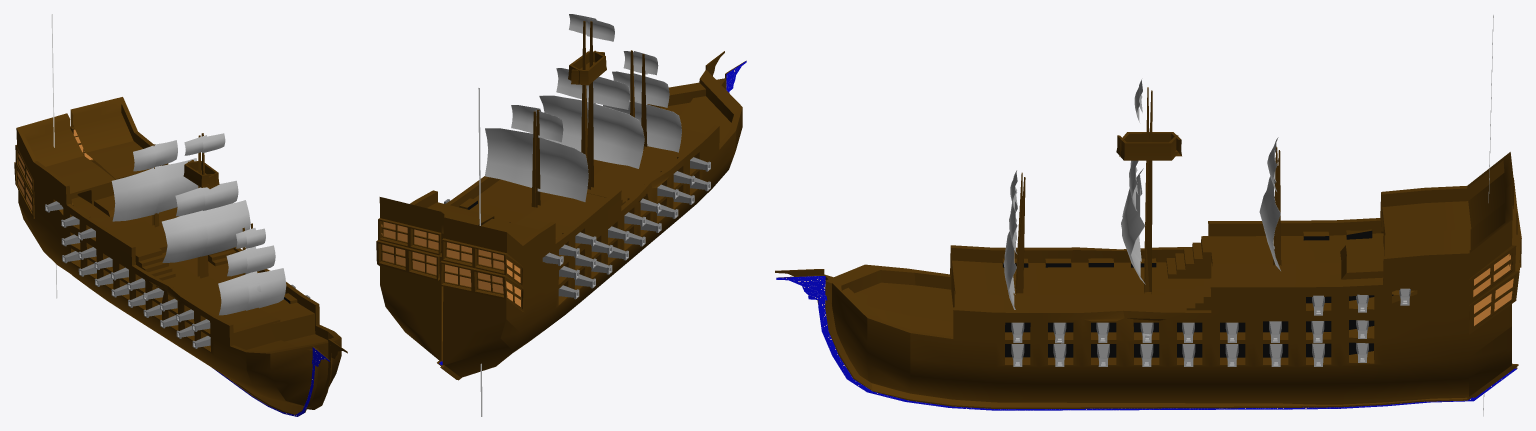
3 views of the same model, side by side, from view 1: azimuth 30°, elevation 25°; view 2: azimuth 150°, elevation 25°; view 3: azimuth 270°, elevation 25° (orthographic). The views are drawn at different scales.
Parts seen in each view (by area): view 1: Cube.001, Cube; view 2: Cube.001, Cube, Плоскость; view 3: Cube, Cube.001.
Part boxes in pixels (left/top/right/bottom): Cube.001: left=14, top=113, right=347, bottom=409; Cube: left=70, top=97, right=341, bottom=416; Cube.001: left=440, top=18, right=742, bottom=380; Cube: left=376, top=14, right=746, bottom=365; Плоскость: left=478, top=88, right=482, bottom=416; Cube: left=775, top=87, right=1520, bottom=404; Cube.001: left=776, top=79, right=1521, bottom=410.
Size of the model in its own units: 15.03 by 31.79 by 53.6.
Materials: 3 (2 with a texture image).
